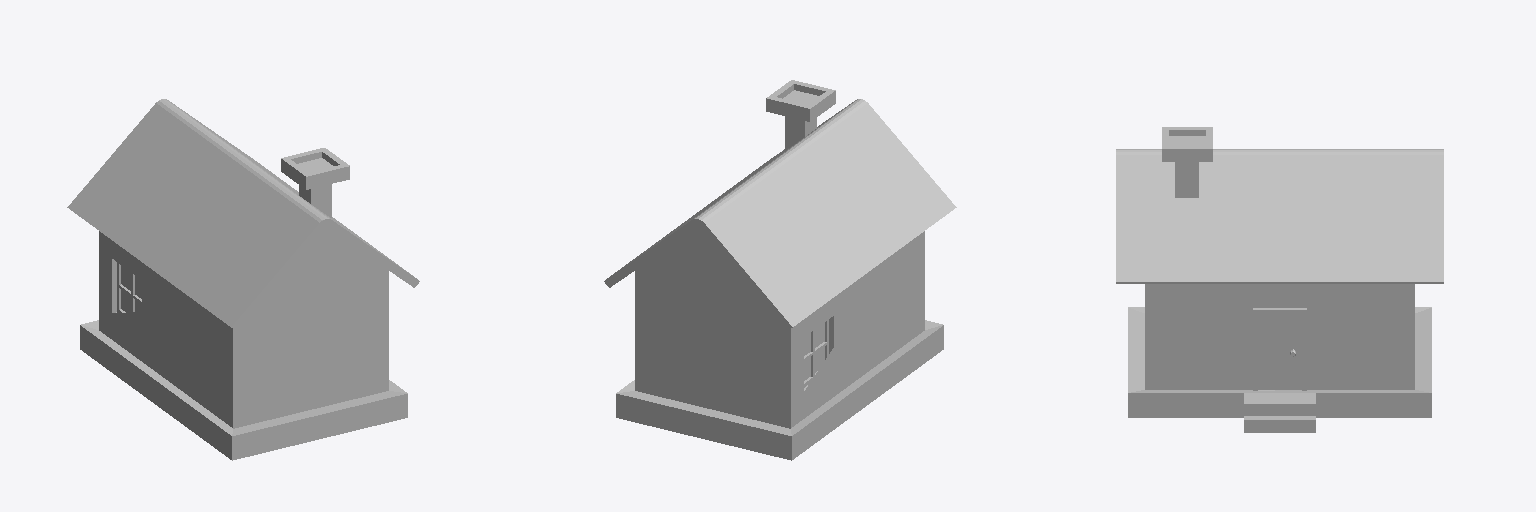
The model's file is LowPolyHouseFinal1.obj.
The picture shows the model from 3 angles: view 1: azimuth 30°, elevation 25°; view 2: azimuth 150°, elevation 25°; view 3: azimuth 270°, elevation 25°; orthographic projection.
Parts seen in each view (by area): view 1: Cube, Roof, CHimney, window; view 2: Cube, Roof, CHimney, window; view 3: Roof, Cube, Door, CHimney.
Part boxes in pixels (left/top/right/bottom): Cube: left=80, top=227, right=407, bottom=460; Roof: left=67, top=99, right=419, bottom=330; CHimney: left=281, top=148, right=349, bottom=217; window: left=117, top=262, right=141, bottom=312; Cube: left=616, top=227, right=943, bottom=460; Roof: left=604, top=99, right=956, bottom=330; CHimney: left=766, top=80, right=835, bottom=149; window: left=804, top=319, right=828, bottom=387; Roof: left=1116, top=149, right=1443, bottom=283; Cube: left=1128, top=284, right=1431, bottom=432; Door: left=1253, top=308, right=1306, bottom=390; CHimney: left=1162, top=127, right=1212, bottom=197.
Bounding box in the file's own units: 15.66 × 17.45 × 20.81.